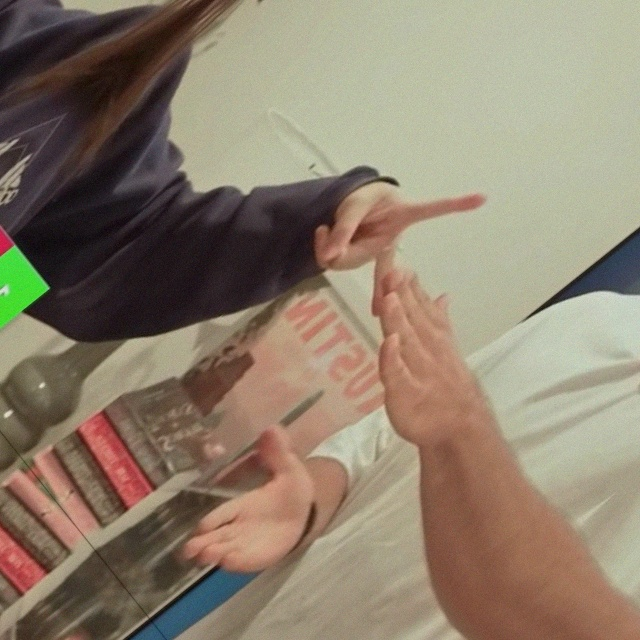Paper: (309, 252, 518, 466)
Scissors: (292, 127, 503, 327)
